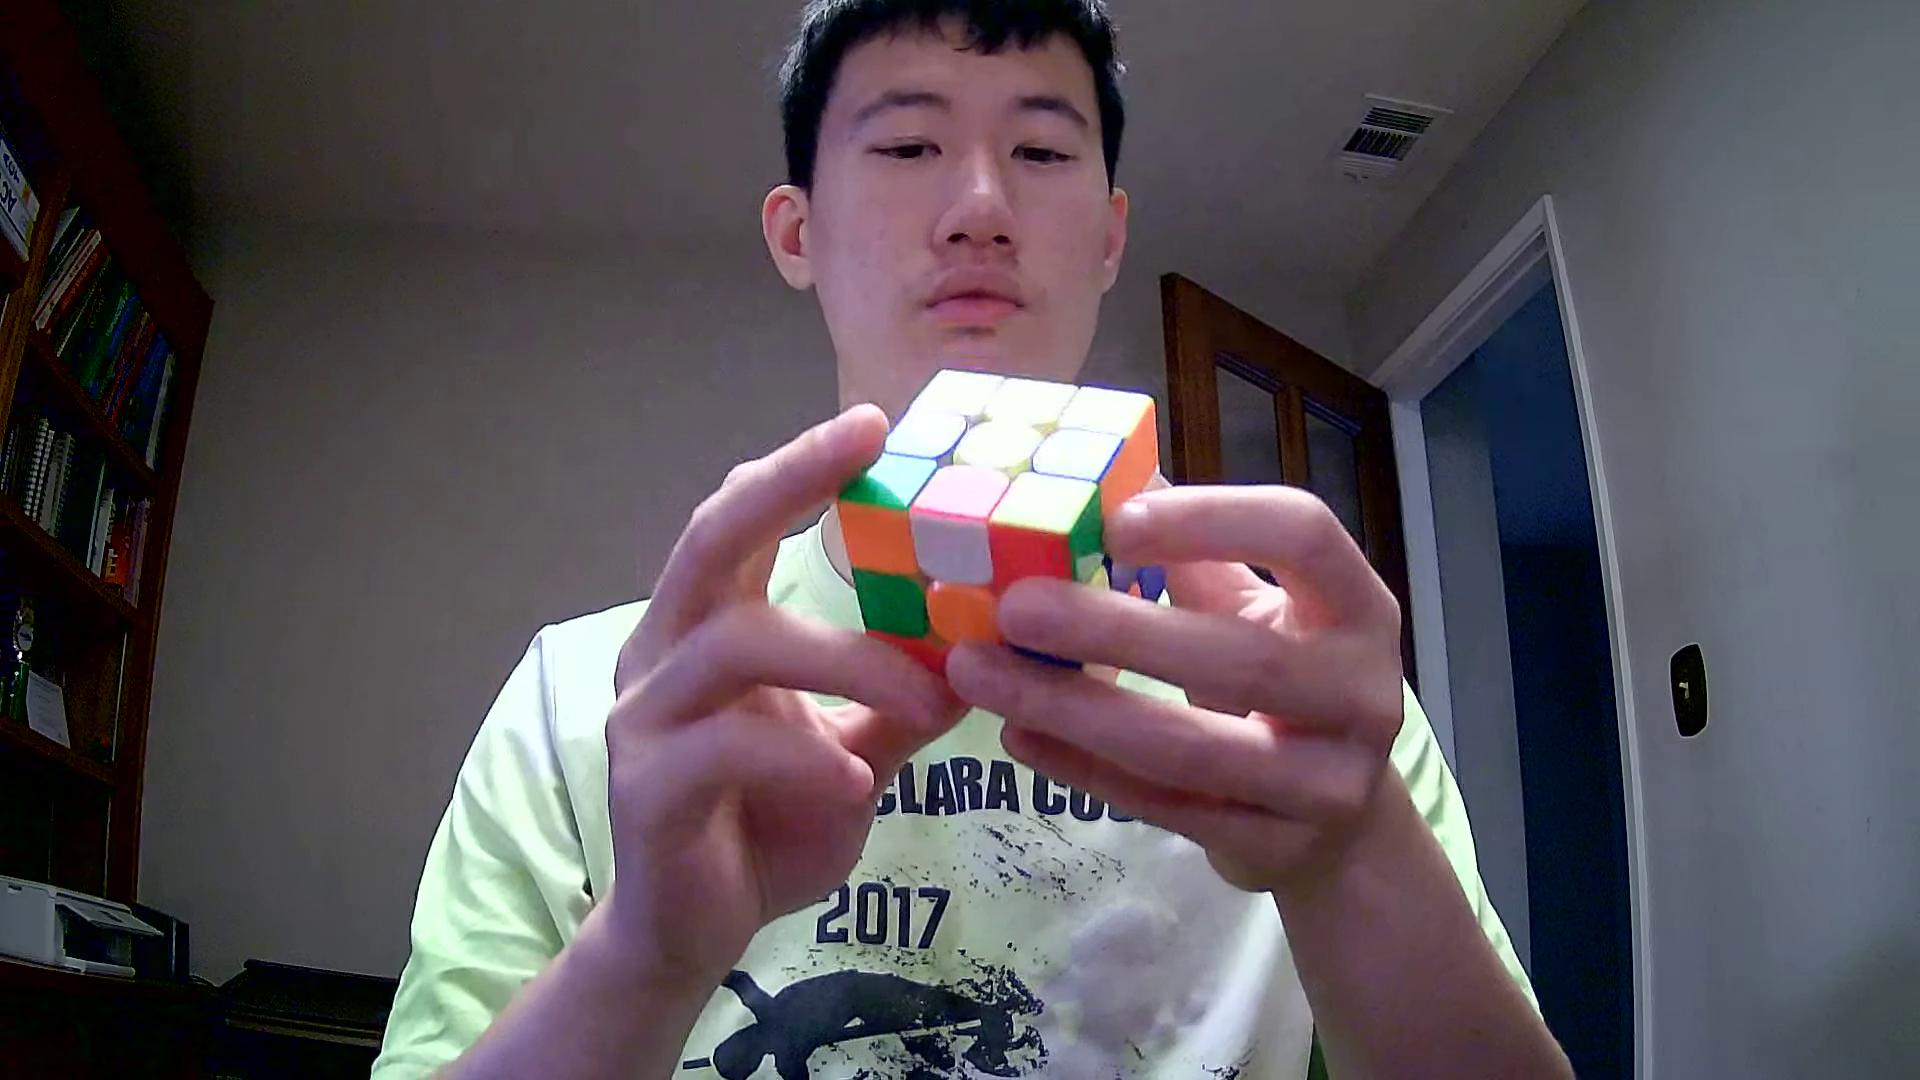Rubiks-Cube: (829, 365, 1180, 702)
